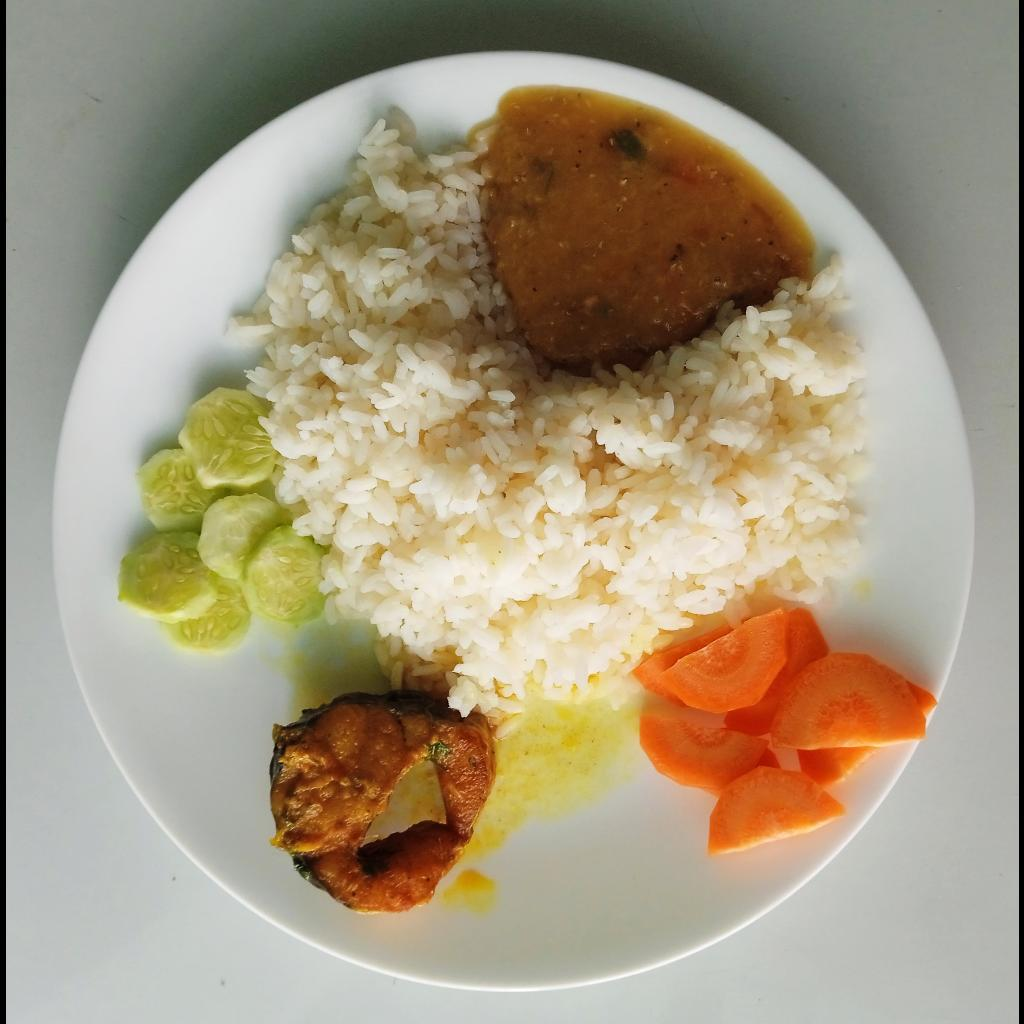carrot: (636, 605, 939, 859)
cucumber: (115, 386, 329, 658)
daal: (477, 80, 814, 378)
fish: (265, 692, 496, 918)
rice: (228, 122, 875, 731)
